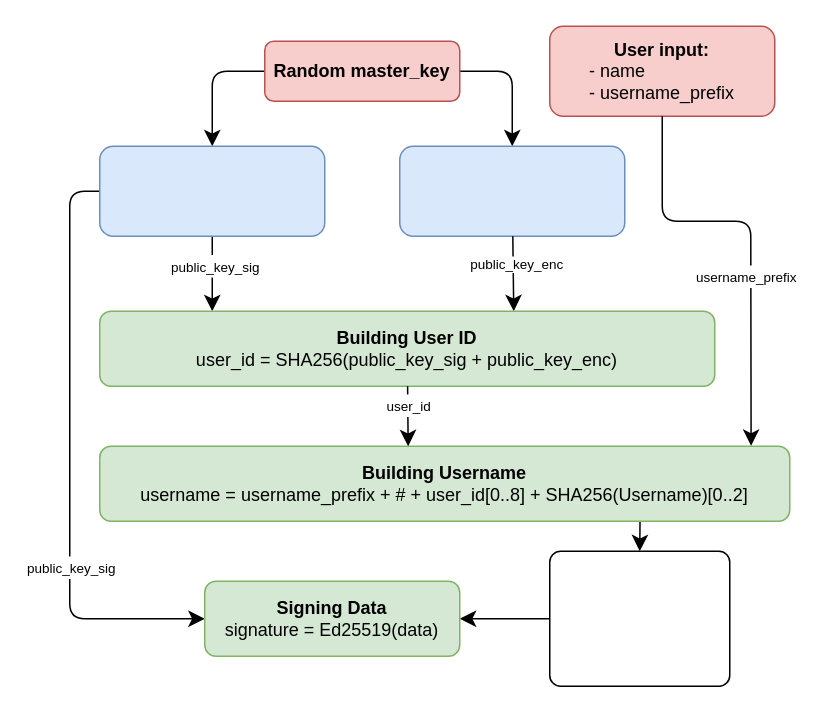
The diagram is 822 pixels wide and 713 high, and some of its shapes have lost their labels. Here are the shapes that lost their labels. From the top down, the box of each, then its label:
(98, 145, 325, 236): Keypair for signatures: - private_key_sig - public_key_sig
(398, 145, 625, 236): Keypair for encryption: - private_key_enc - public_key_enc
(548, 550, 730, 686): - name - username - user_id - public_key_sig - public_key_enc
